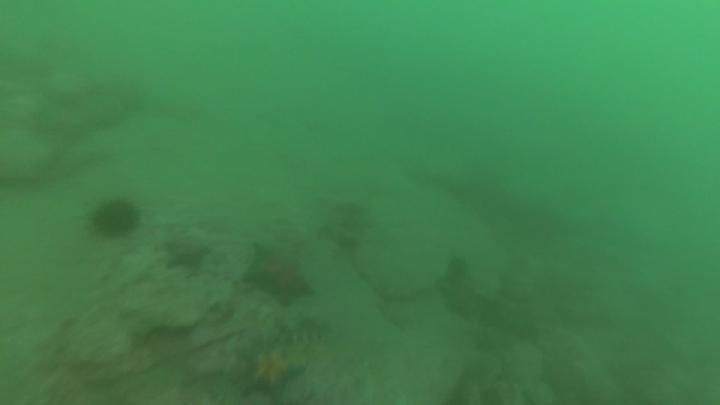echinus: (87, 195, 142, 241), (442, 252, 472, 285)
holothurian: (266, 313, 335, 348)
starfish: (240, 240, 317, 309), (230, 338, 309, 404), (159, 230, 214, 275)
